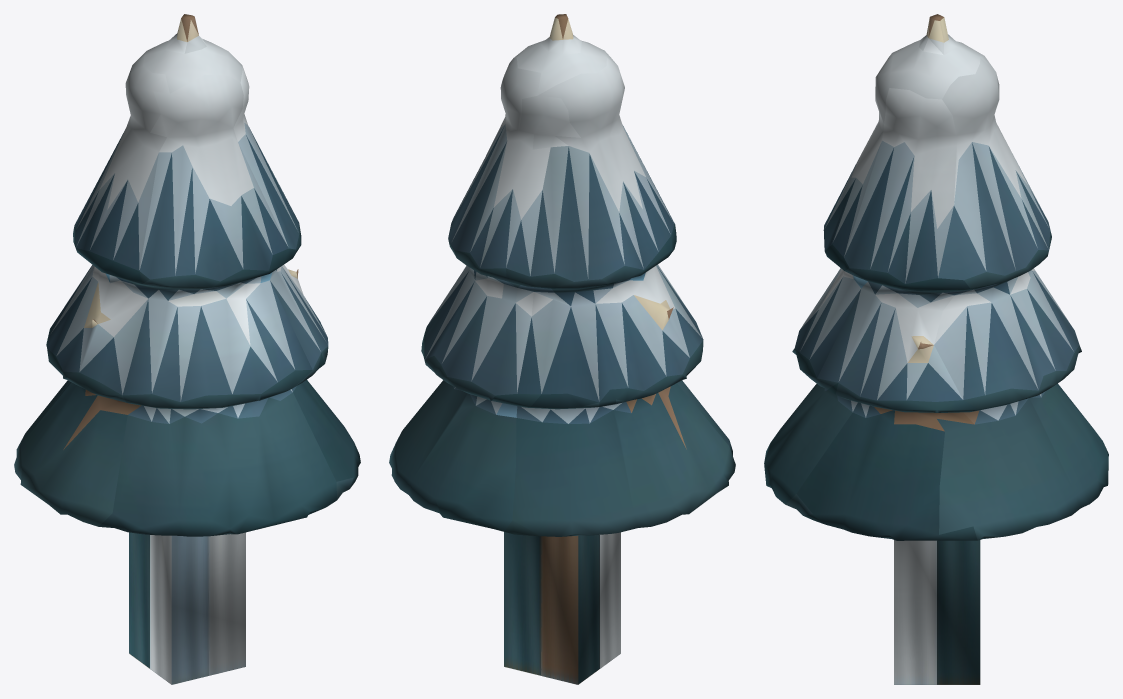
The model's file is tree_pine_c.glb.
3 renders of one model, left to right at view 1: azimuth 30°, elevation 25°; view 2: azimuth 150°, elevation 25°; view 3: azimuth 270°, elevation 25°, orthographic.
Visible parts, largest first — view 1: lod0, col; view 2: lod0, col; view 3: lod0, col.
Part boxes in pixels (left/top/right/bottom): lod0: left=14, top=14, right=360, bottom=536; col: left=129, top=532, right=245, bottom=684; lod0: left=389, top=14, right=735, bottom=536; col: left=504, top=532, right=620, bottom=684; lod0: left=764, top=14, right=1108, bottom=540; col: left=894, top=540, right=980, bottom=684.
Size of what is drawn, in the model's own units: 2.39 by 4.97 by 2.39.
2 materials, 2 textured.
